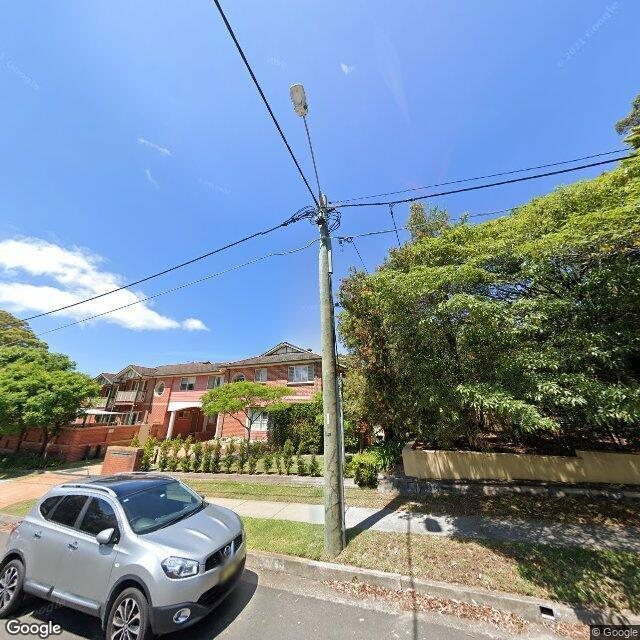streetlight: (288, 84, 324, 208)
timber-pole: (319, 195, 347, 557)
